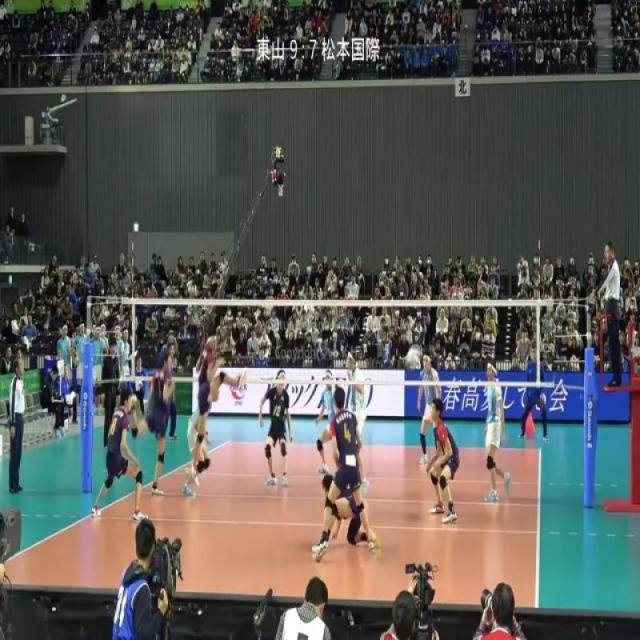volleyball: (404, 345, 422, 368)
